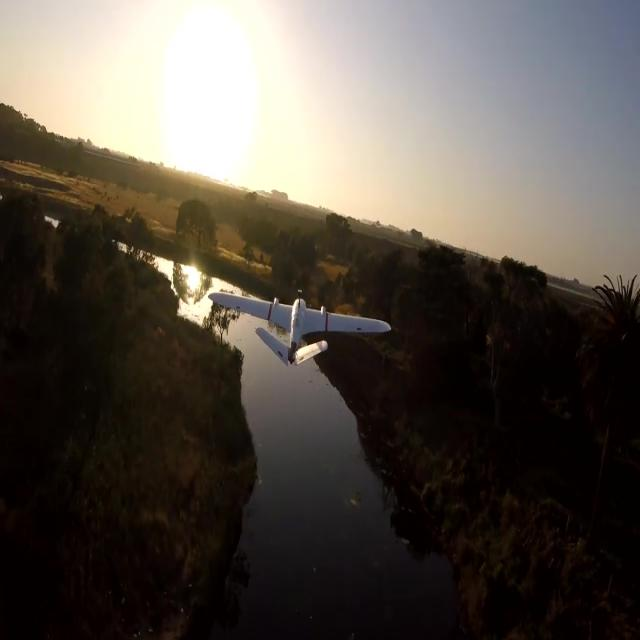iha: (207, 313, 392, 330)
